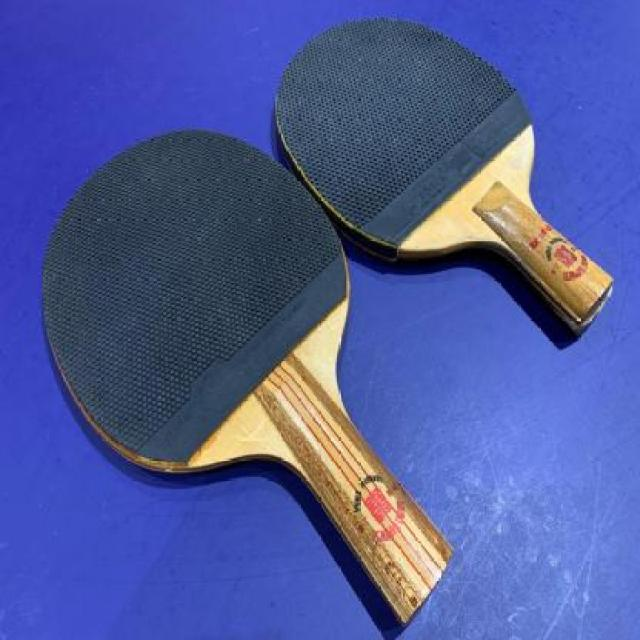table_tennis_racket: (38, 120, 354, 478), (272, 8, 554, 255)
